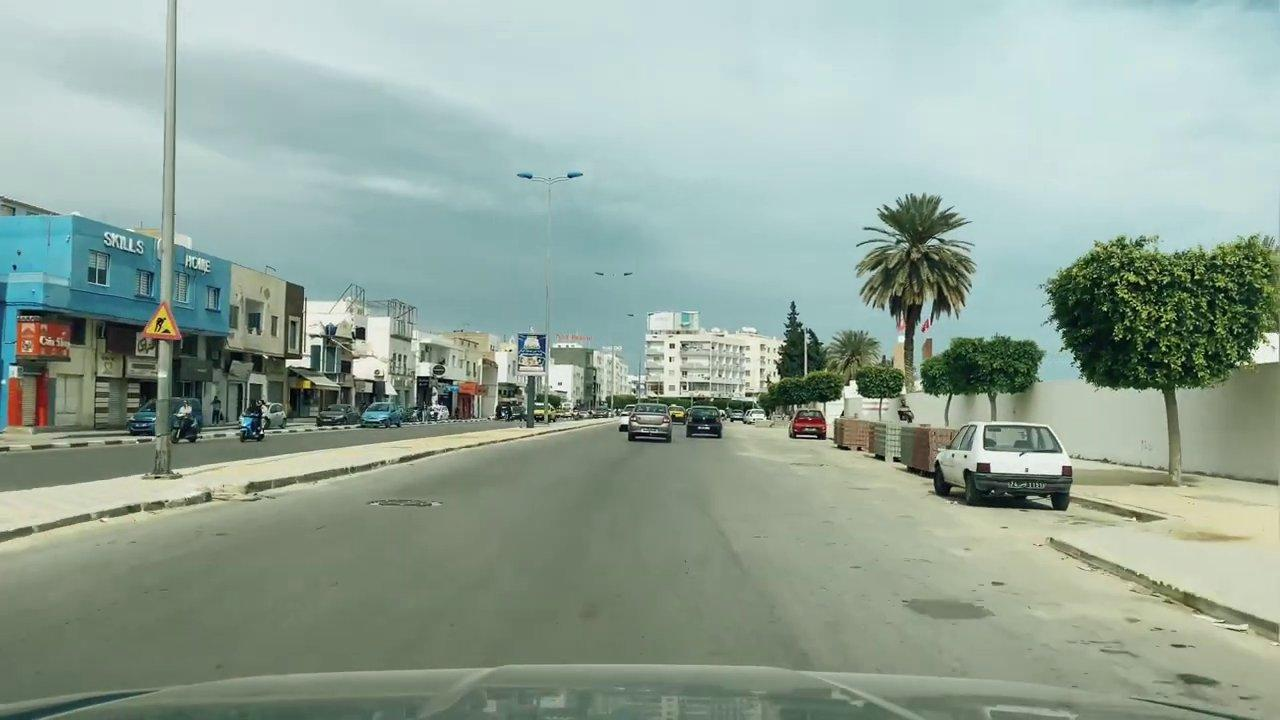road works: (141, 300, 184, 341)
